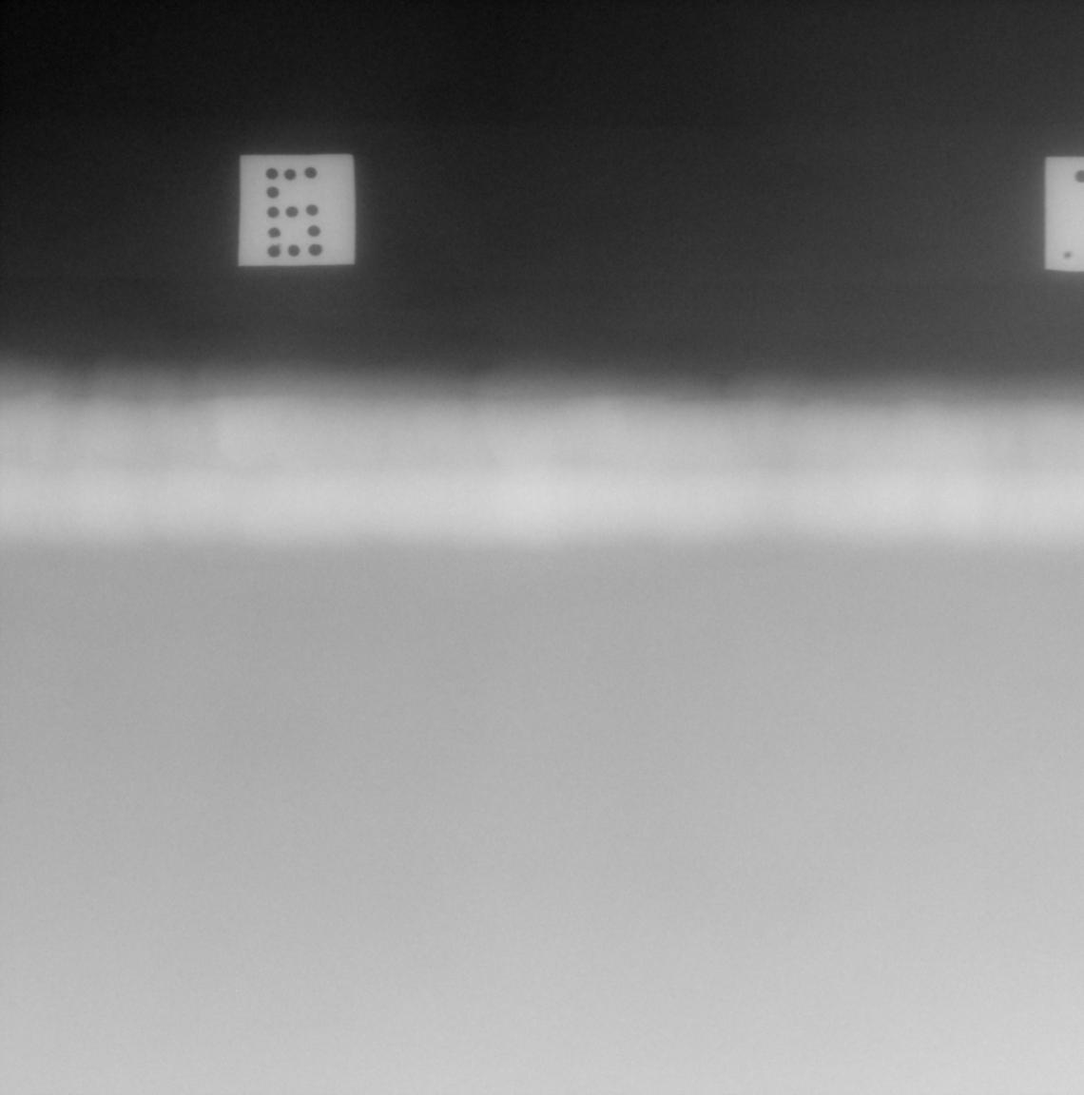Inclusion: (463, 489, 480, 493)
Pore/Porosity: (1046, 441, 1049, 445)
